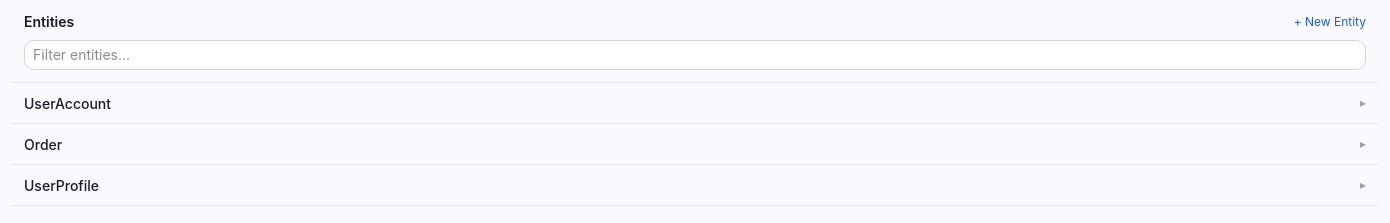
Test case: EntityPanel › filters entities by name
Type "user" into the field with placeholder "Filter entities...".
click(695, 55); type("user")  # box [24,40,1366,70]
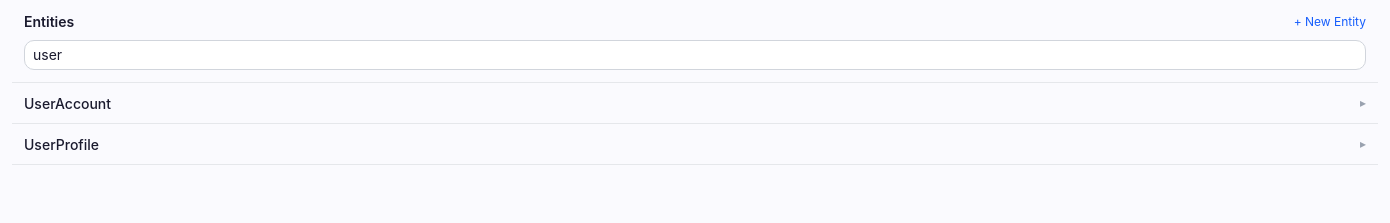
Expected: the text "UserAccount" is shown, [24,95,111,112]
Expected: the button "Order" is gone
